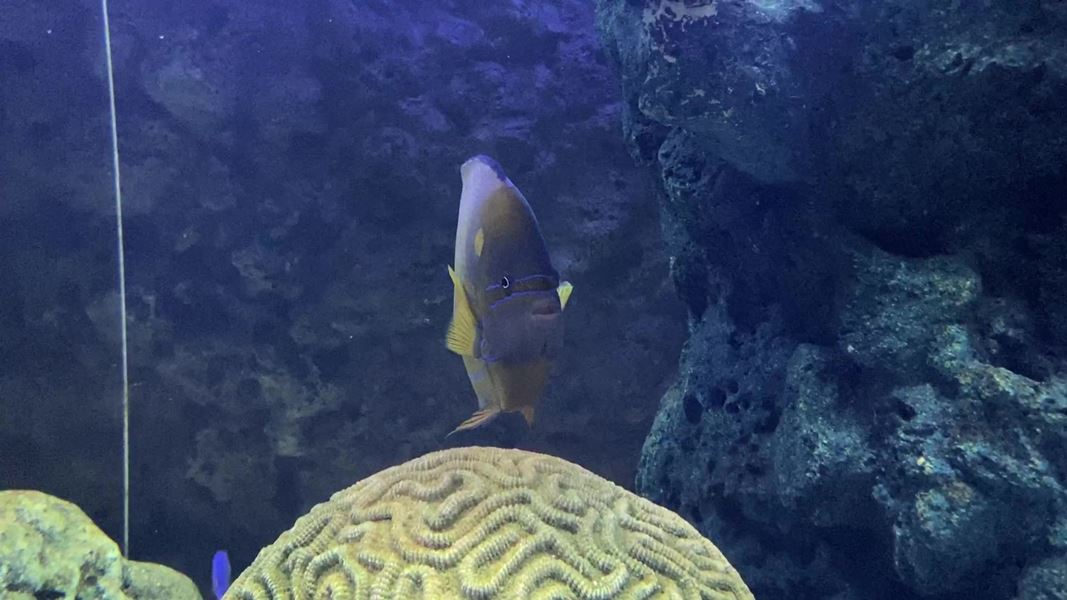Blue ring angelfish: (399, 146, 606, 448)
